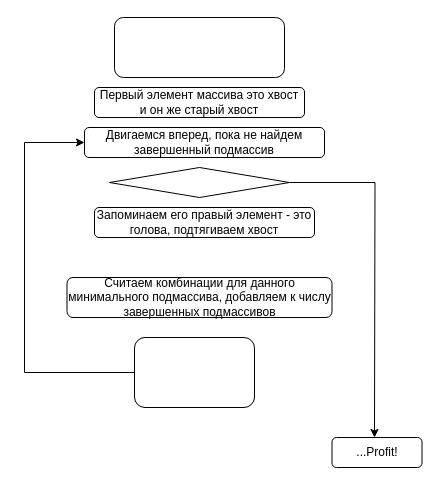
Image size: 440x485. Some labels were removed from this diagram. The centre of each missing label's shape, as x and y in pixels:
"он существует?" belongs at [199,182].
"Определить минимальный завершенный подмассив путем конвертации в Count" belongs at [199,47].
"хвост+1 старый хвост = хвост голова = хвост" belongs at [194,372].
